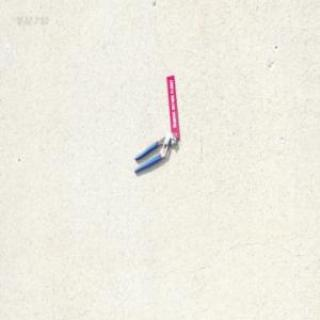LuggageTagtrack_idkeyframe: (165, 74, 180, 138)
Pliertrack_idkeyframe: (132, 129, 176, 173)
